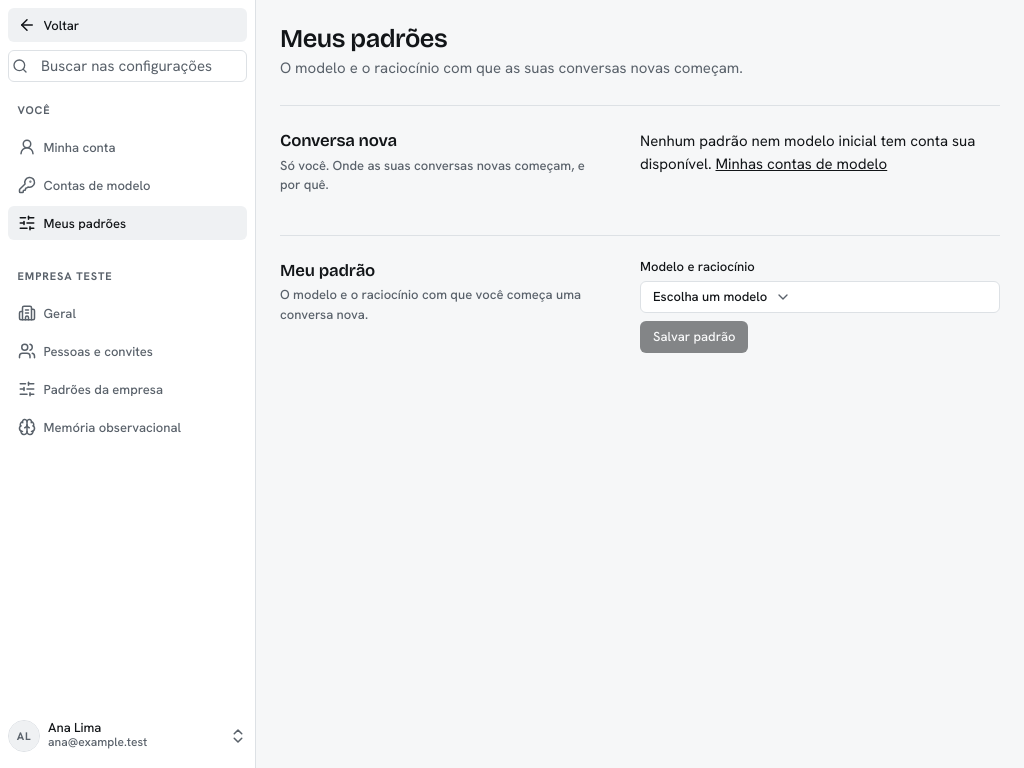
Test case: sem fornecedor conectado a escolha diz "Conecte uma conta de modelo"
Expected: the heading "Meus padrões" is shown, [280,23,447,54]
What coordinates should you click on to do the following:
click the dropdown named "Modelo e raciocínio"
I would click on:
 (710, 296)
Its box is [640,280,1000,312].
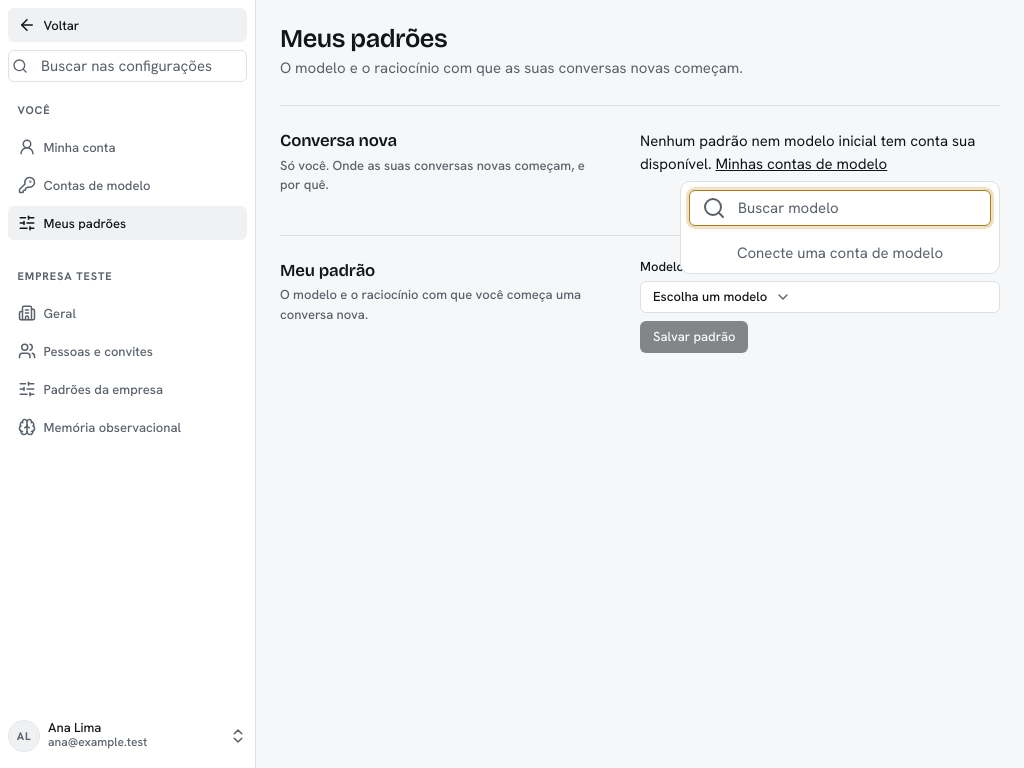
Expected: the text "Conecte uma conta de modelo" is shown, [737,243,943,263]
